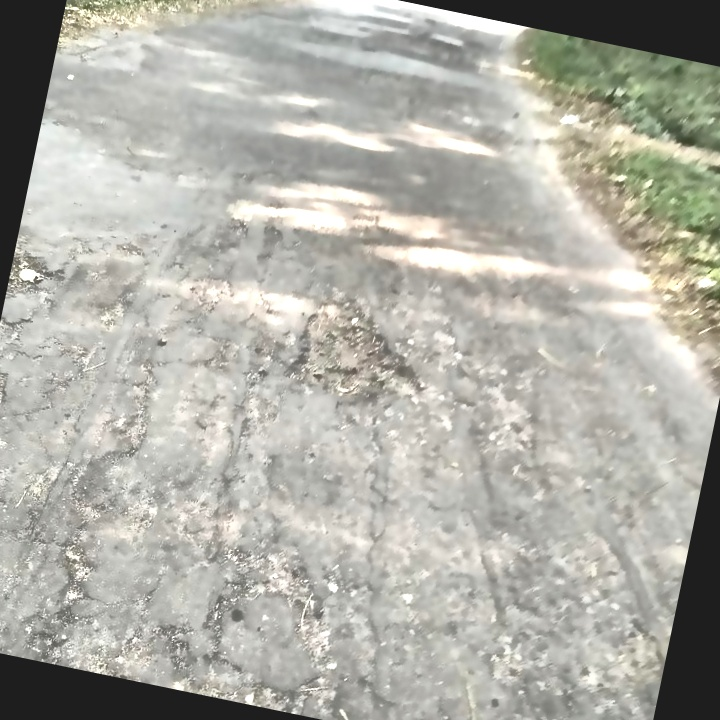pothole: (278, 282, 445, 424), (7, 247, 74, 307)
